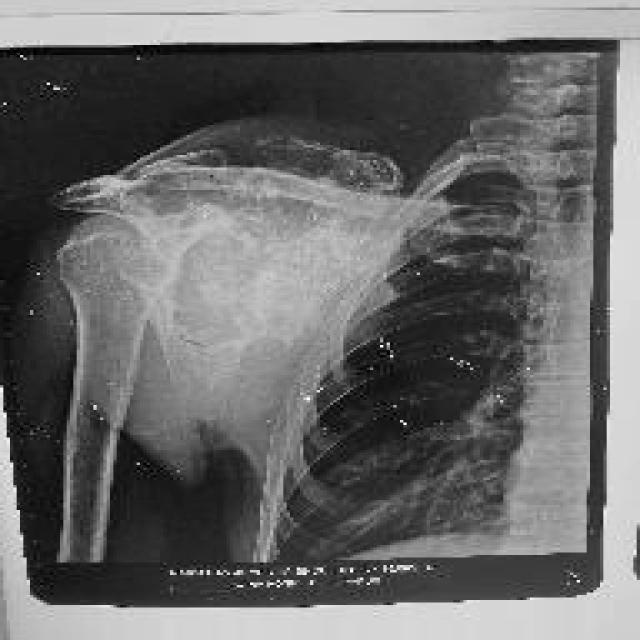bone-cancer: (57, 122, 402, 482)
